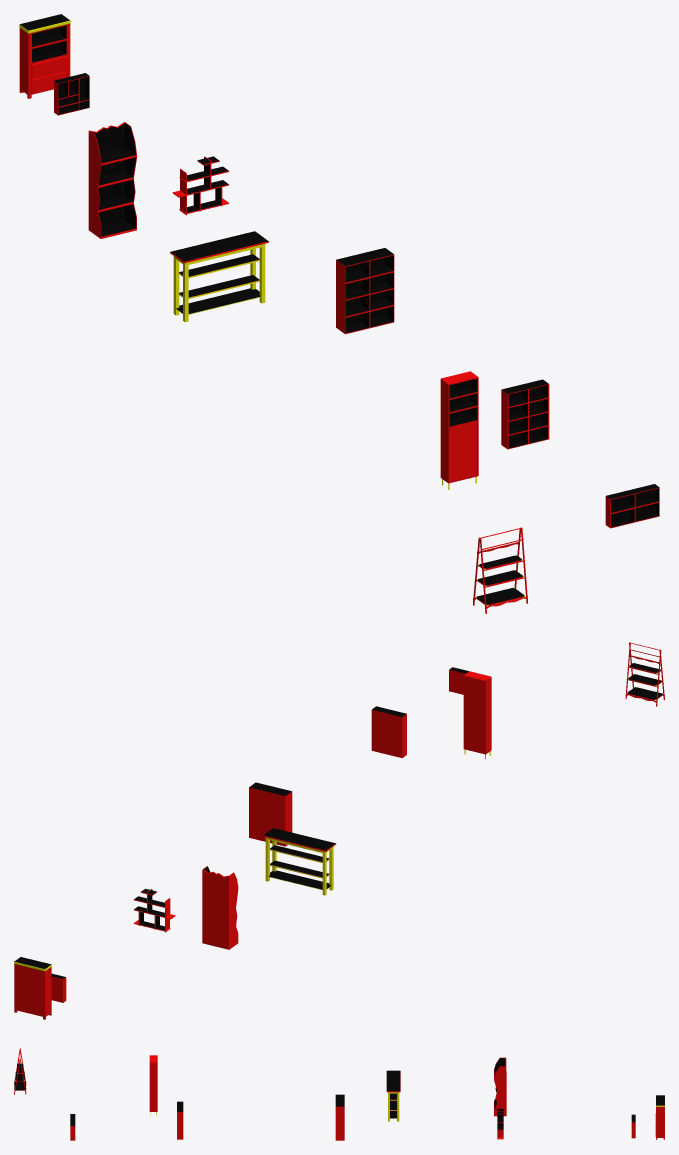
Rendered from shelving_units_grp.fbx.
3 renders of one model, top to bottom at view 1: azimuth 30°, elevation 25°; view 2: azimuth 150°, elevation 25°; view 3: azimuth 270°, elevation 25°, orthographic. The views are drawn at different scales.
Visible parts, largest first — view 1: shelving_unit_215, shelving_unit_219, shelving_unit_206, shelving_unit_325, shelving_unit_313, shelving_unit_001, PS_shelving_unit_219_1, PS_shelving_unit_215_1, shelving_unit_307, PS_shelving_unit_219_4; view 2: shelving_unit_219, shelving_unit_206, shelving_unit_313, shelving_unit_325, shelving_unit_307, shelving_unit_215, shelving_unit_001, PS_shelving_unit_215_1; view 3: shelving_unit_219, shelving_unit_206, shelving_unit_313, PS_shelving_unit_215_1, shelving_unit_325, shelving_unit_215, shelving_unit_001, shelving_unit_307.
Part boxes in pixels (box(x1,y1,x2,y2)): shelving_unit_215: box(170, 241, 268, 322); shelving_unit_219: box(88, 122, 136, 238); shelving_unit_206: box(440, 371, 478, 489); shelving_unit_325: box(19, 20, 70, 98); shelving_unit_313: box(336, 254, 394, 334); shelving_unit_001: box(473, 527, 527, 613); PS_shelving_unit_219_1: box(91, 123, 135, 163); PS_shelving_unit_215_1: box(170, 231, 268, 261); shelving_unit_307: box(501, 384, 549, 449); PS_shelving_unit_219_4: box(98, 204, 136, 236); shelving_unit_219: box(202, 866, 238, 949); shelving_unit_206: box(463, 671, 491, 759); shelving_unit_313: box(249, 787, 292, 846); shelving_unit_325: box(14, 961, 51, 1019); shelving_unit_307: box(371, 710, 406, 758); shelving_unit_215: box(263, 835, 336, 895); shelving_unit_001: box(625, 642, 664, 706); PS_shelving_unit_215_1: box(263, 828, 335, 850); shelving_unit_219: box(494, 1057, 506, 1116); shelving_unit_206: box(149, 1055, 157, 1115); shelving_unit_313: box(335, 1106, 344, 1140); PS_shelving_unit_215_1: box(386, 1070, 400, 1091); shelving_unit_325: box(656, 1105, 664, 1139); shelving_unit_215: box(386, 1071, 400, 1121); shelving_unit_001: box(14, 1048, 26, 1094); shelving_unit_307: box(177, 1112, 183, 1139).
Size of the model in its own units: 500 by 221 by 2441.
